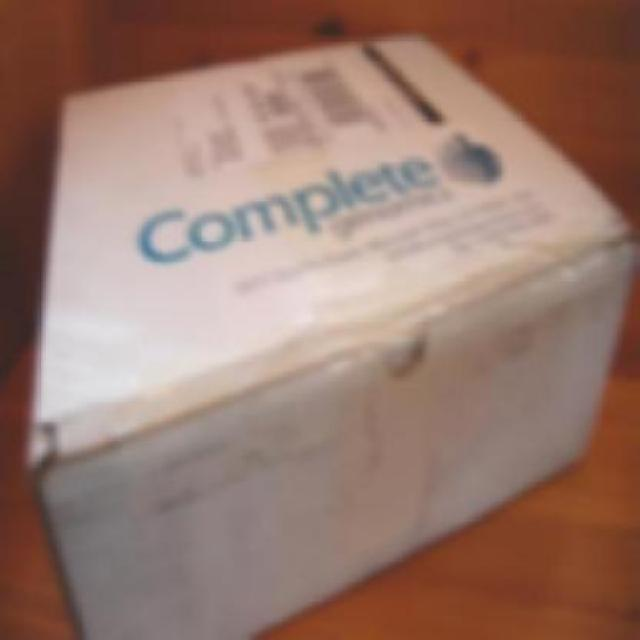box: (42, 61, 636, 639)
